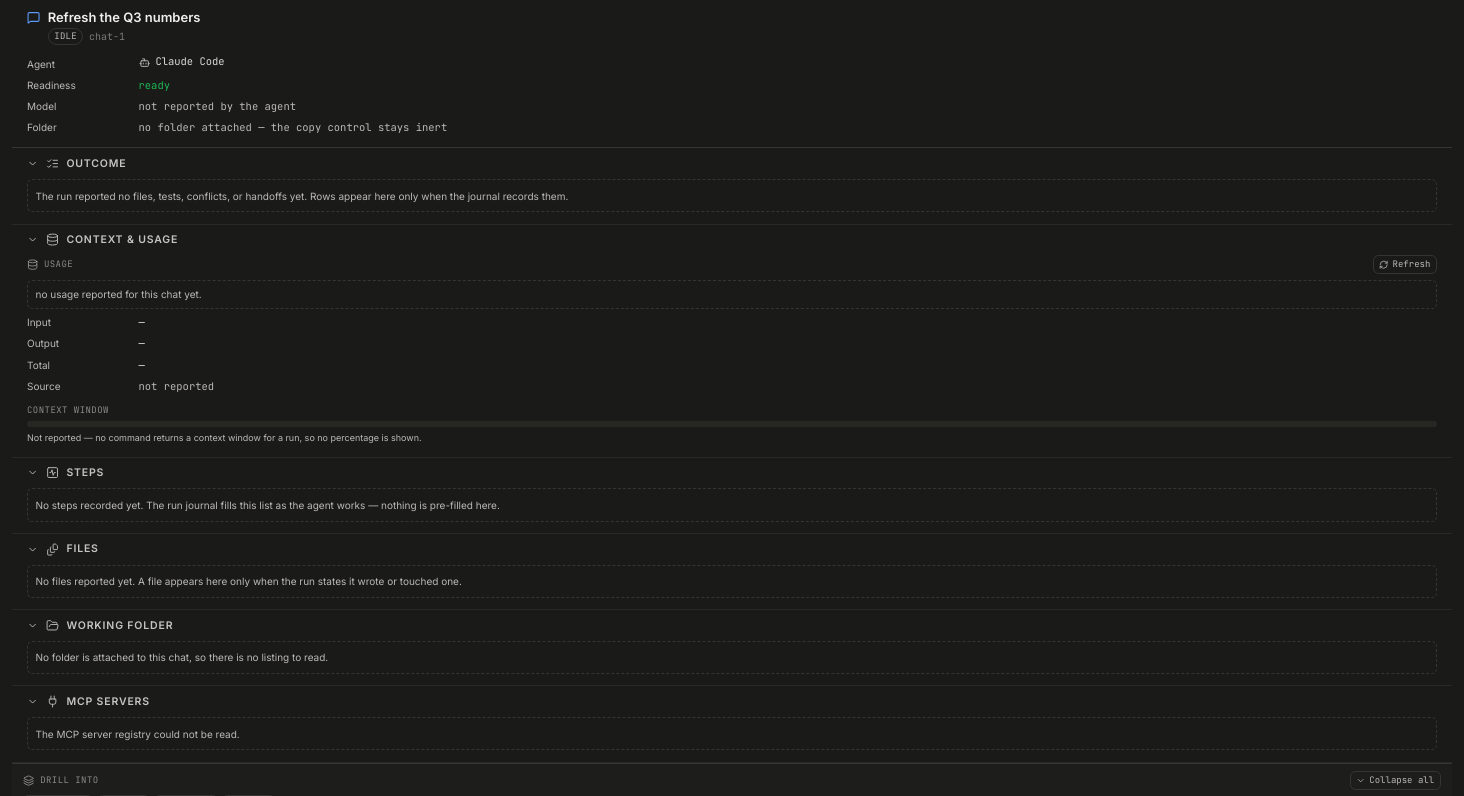
Test: run surface — disclosure is keyboard operable and persisted › collapse all is one control and reports its own state
This screenshot has width=1464, height=796.
Click the button "Collapse all".
click(1395, 780)  # box [1350,771,1441,790]
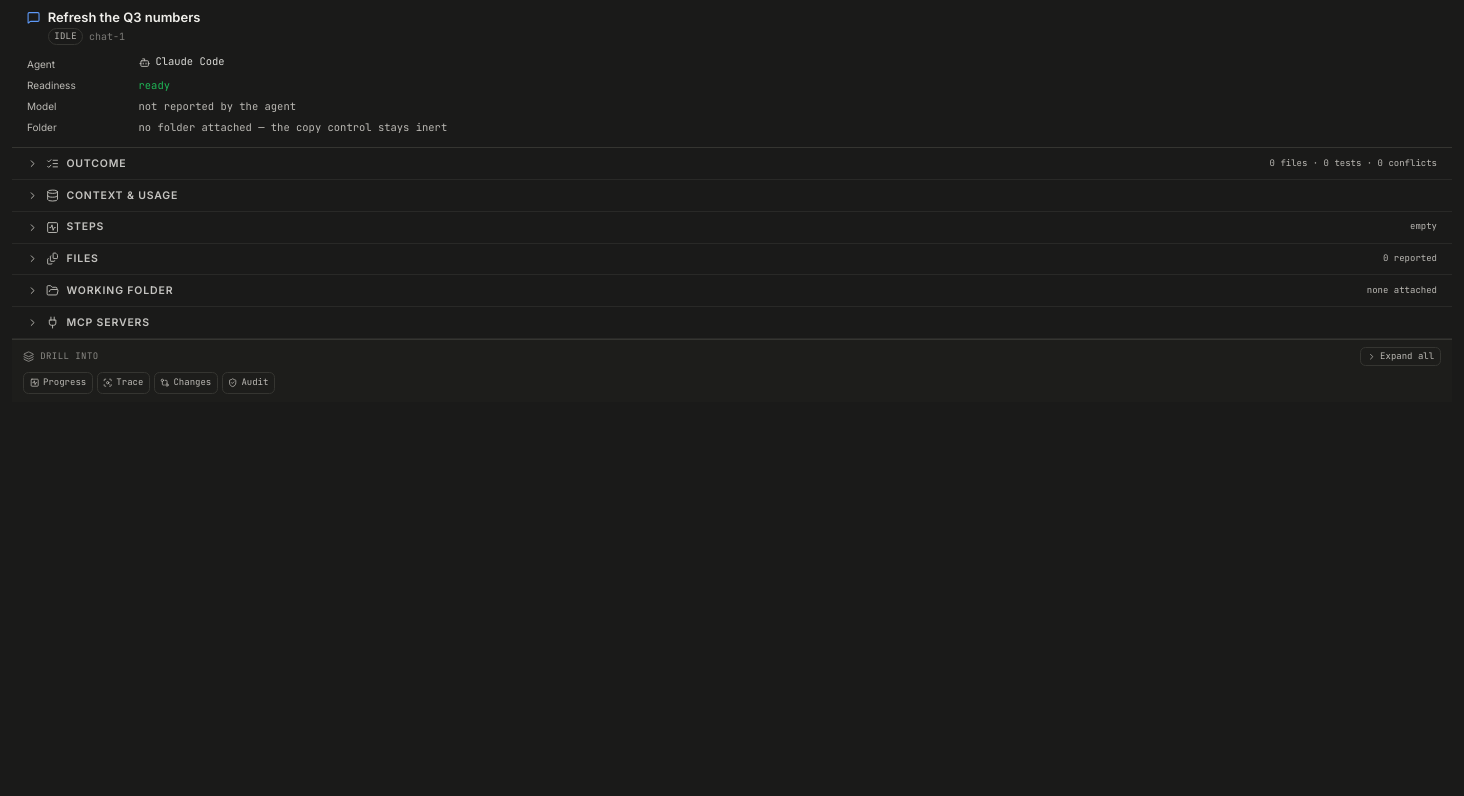
Expected: the button "Expand all" is shown, [1360,347,1441,366]
